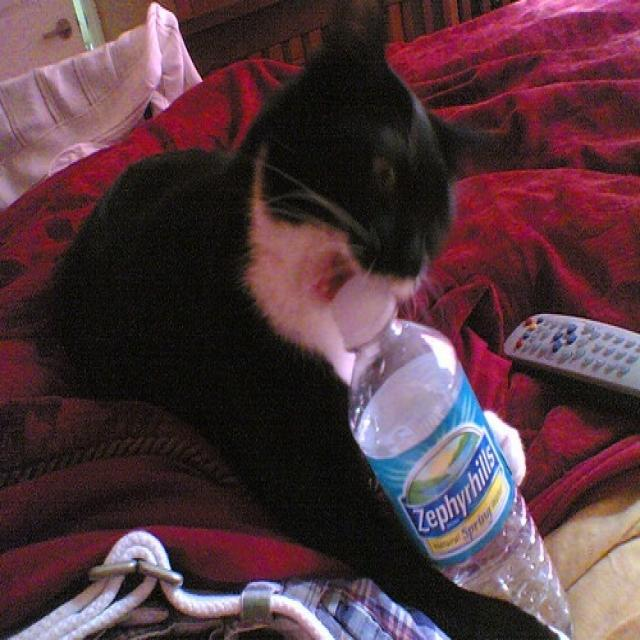plastic_bottle: (349, 316, 576, 634)
